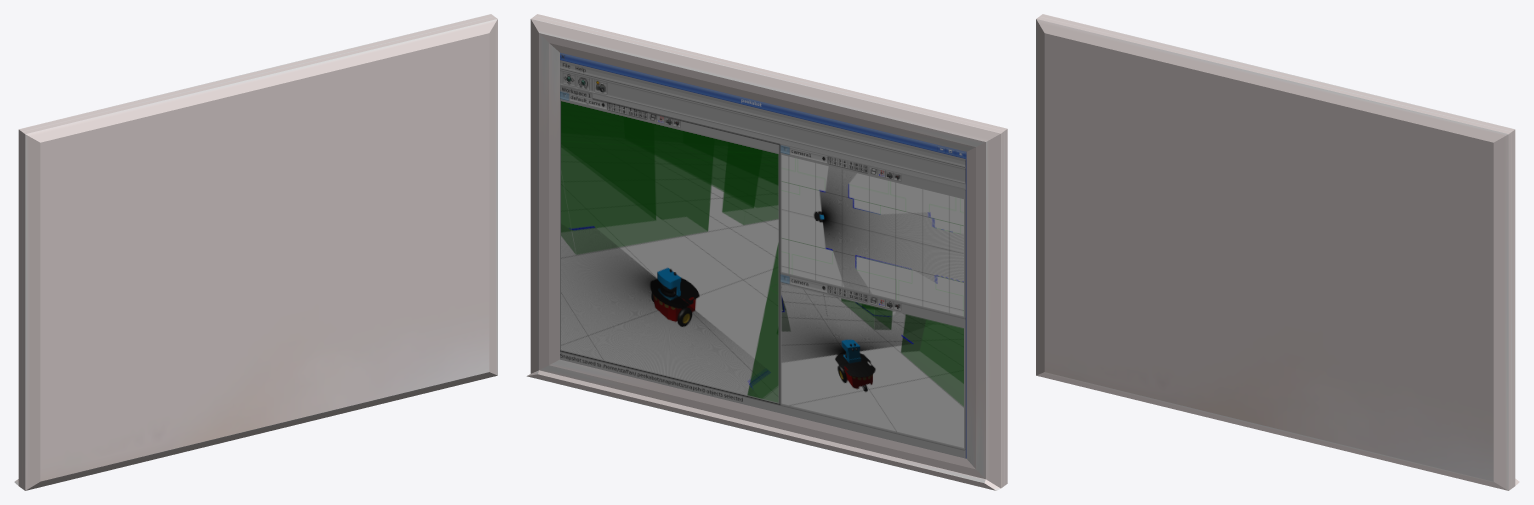
File: laptop_top.obj
3 renders of one model, left to right at view 1: azimuth 30°, elevation 25°; view 2: azimuth 150°, elevation 25°; view 3: azimuth 330°, elevation 25°, orthographic.
Visible parts, largest first — view 1: Cube; view 2: Cube; view 3: Cube.
Boxes of the visible parts, box(x1,y1,x2,y2) form: Cube: box(14, 14, 497, 490); Cube: box(526, 14, 1007, 490); Cube: box(1036, 14, 1519, 490).
Bounding box in the file's own units: 0.61 × 0.44 × 0.0331.
Materials: 1 (1 with a texture image).
